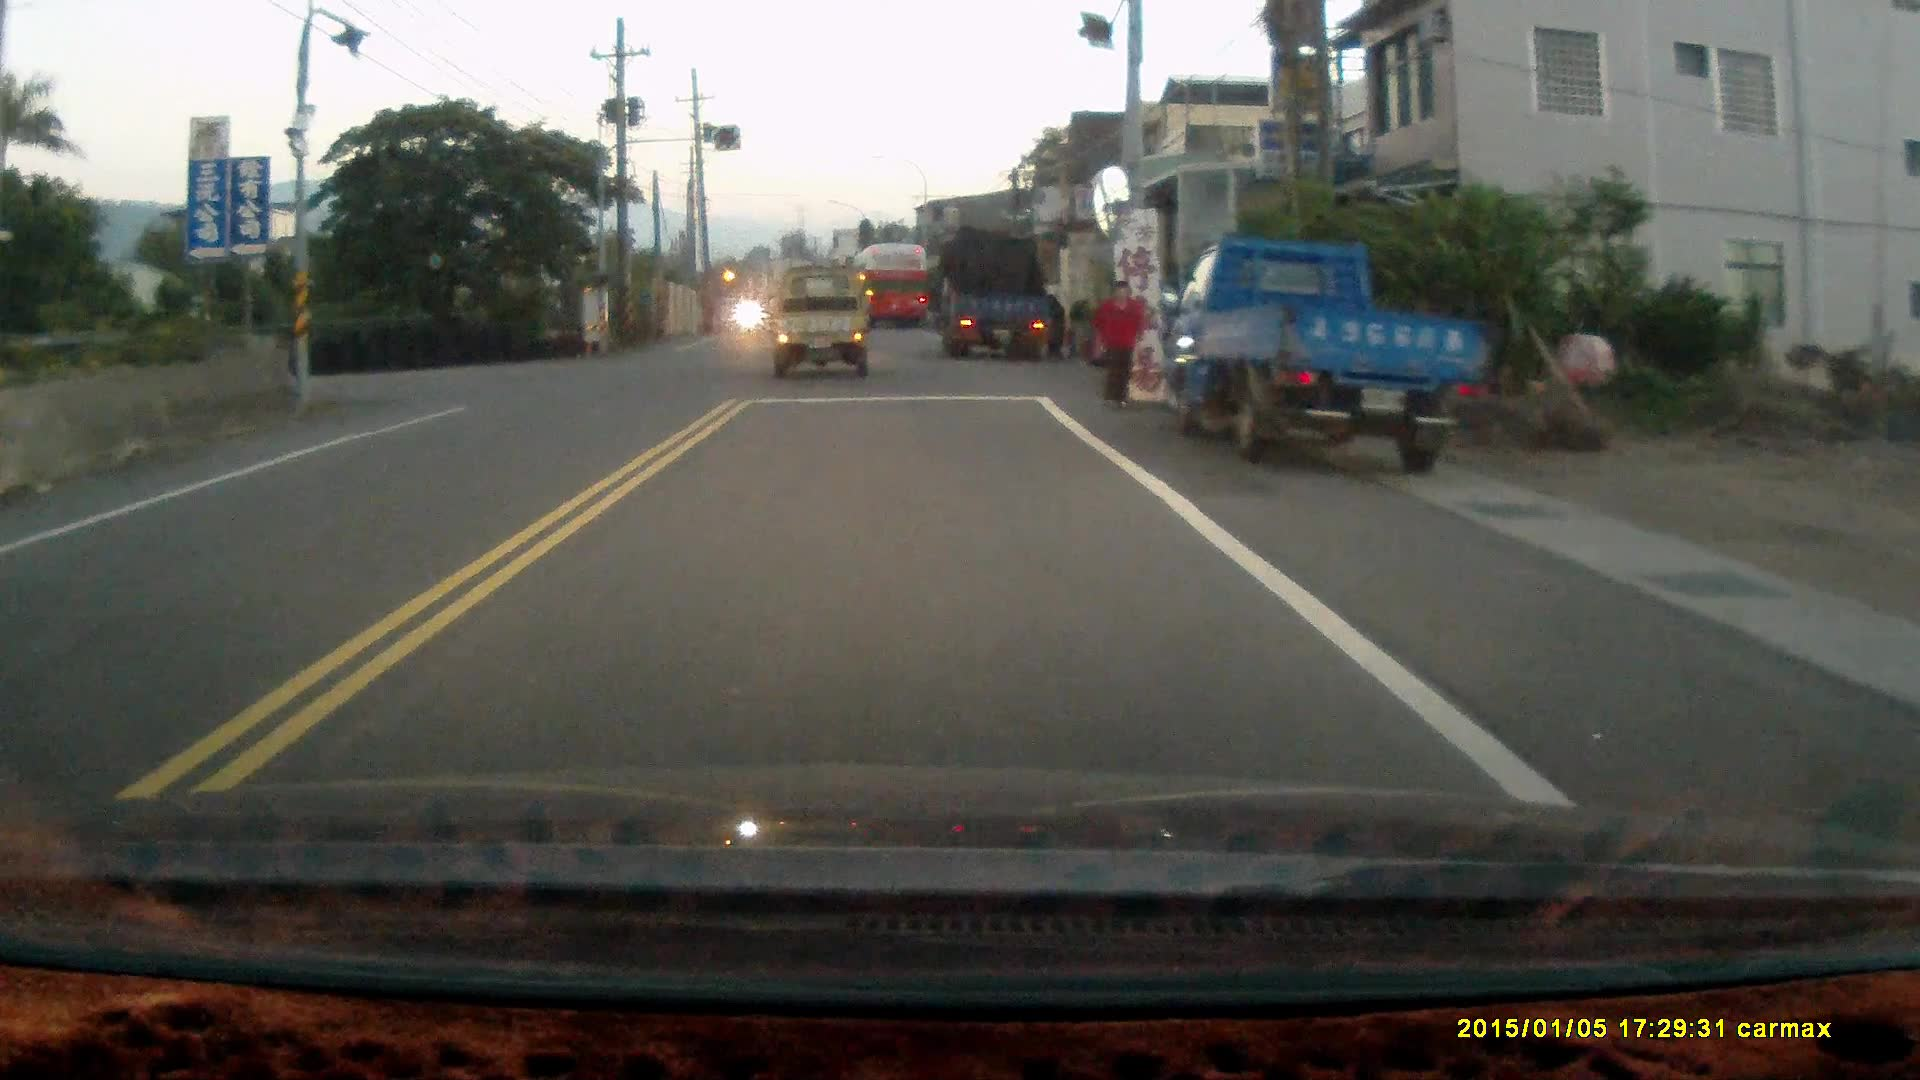pedestrian: (1089, 279, 1146, 416)
rider: (733, 287, 761, 342)
vehicle: (1162, 233, 1497, 469), (939, 232, 1057, 367), (773, 265, 876, 377), (858, 244, 940, 326)
